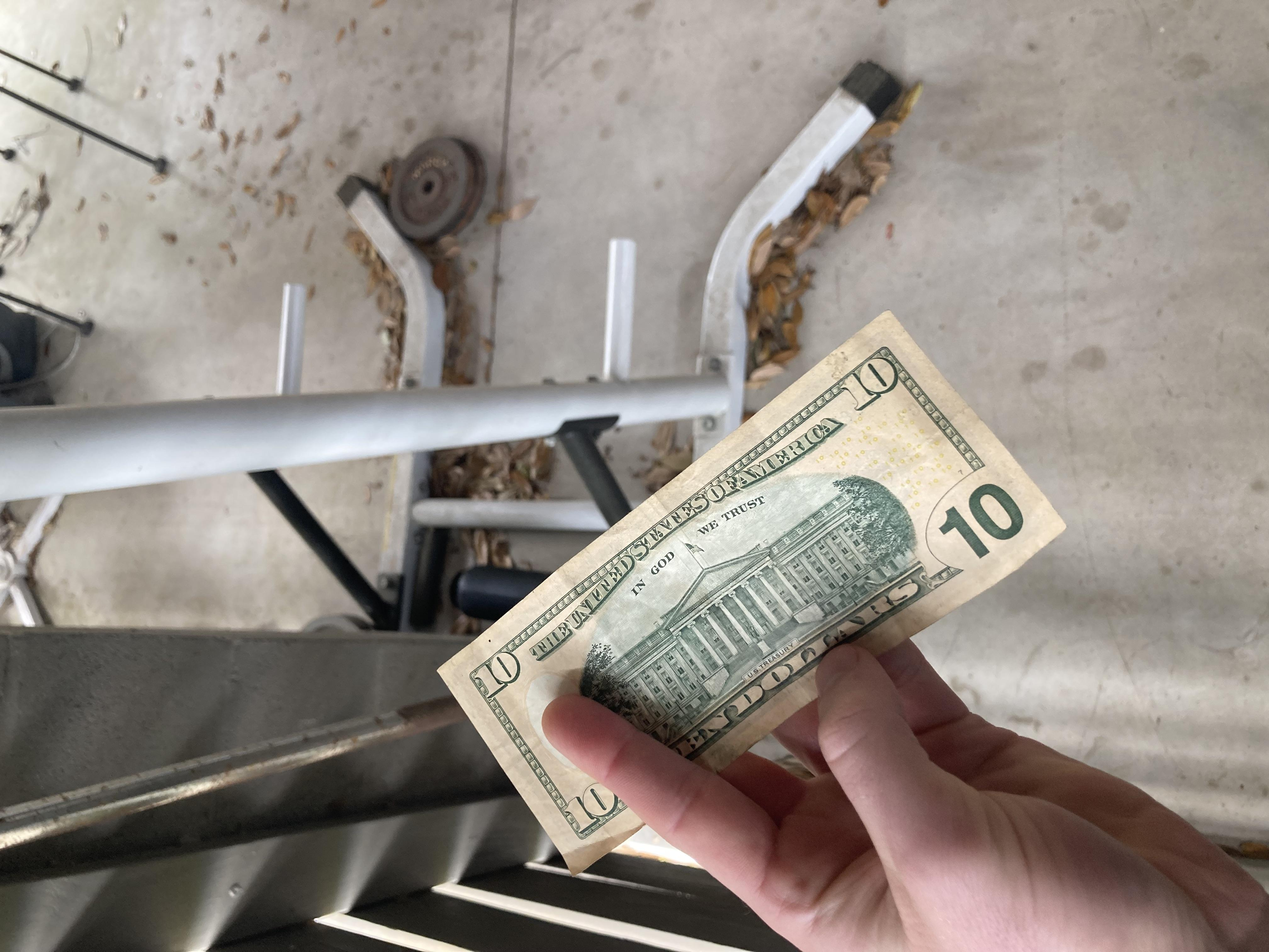ten-back: (103, 327, 862, 804)
